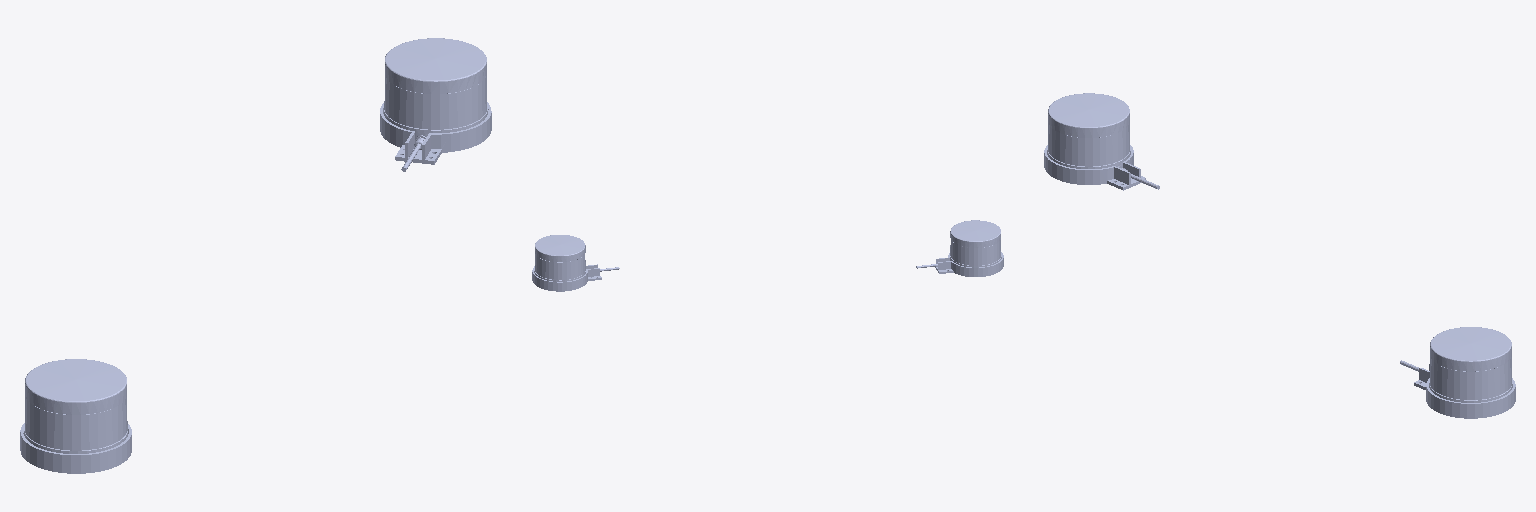
The robot description file, URDF, robot "dualarm_mobile_description":
<robot
  name="dualarm_mobile_description">
  <link
    name="base_link">
    <inertial>
      <origin
        xyz="0.000864338577017398 0.00299918257303577 0.199062022291928"
        rpy="0 0 0" />
      <mass
        value="46.767117709479" />
      <inertia
        ixx="2.14741513023637"
        ixy="0.00641922084382352"
        ixz="-0.00464682081955339"
        iyy="2.83336367327626"
        iyz="0.0187375345667571"
        izz="2.58531669412511" />
    </inertial>
    <visual>
      <origin
        xyz="0 0 0"
        rpy="0 0 0" />
      <geometry>
        <mesh
          filename="package://dualarm_mobile_description/meshes/base_link.STL" />
      </geometry>
      <material
        name="">
        <color
          rgba="0.898039215686275 0.917647058823529 0.929411764705882 1" />
      </material>
    </visual>
    <collision>
      <origin
        xyz="0 0 0"
        rpy="0 0 0" />
      <geometry>
        <mesh
          filename="package://dualarm_mobile_description/meshes/base_link.STL" />
      </geometry>
    </collision>
  </link>
  <link
    name="velodyne_front_link">
    <inertial>
      <origin
        xyz="0.00088054073719368 0.0325499630756221 -2.34093804751812E-06"
        rpy="0 0 0" />
      <mass
        value="0.644876373475702" />
      <inertia
        ixx="0.000750999634930059"
        ixy="1.67722906780247E-05"
        ixz="-1.44821058273227E-09"
        iyy="0.000893832150059014"
        iyz="-4.49975942642844E-08"
        izz="0.000791663220961329" />
    </inertial>
    <visual>
      <origin
        xyz="0 0 0"
        rpy="0 0 0" />
      <geometry>
        <mesh
          filename="package://dualarm_mobile_description/meshes/velodyne_front_link.STL" />
      </geometry>
      <material
        name="">
        <color
          rgba="0.792156862745098 0.819607843137255 0.933333333333333 1" />
      </material>
    </visual>
    <collision>
      <origin
        xyz="0 0 0"
        rpy="0 0 0" />
      <geometry>
        <mesh
          filename="package://dualarm_mobile_description/meshes/velodyne_front_link.STL" />
      </geometry>
    </collision>
  </link>
  <joint
    name="velodyne_front_joint"
    type="fixed">
    <origin
      xyz="0.339947996689396 0.23499999999999 0.268200000000092"
      rpy="1.57079632679488 -1.7910313048242E-14 -2.3561944902" />
    <parent
      link="base_link" />
    <child
      link="velodyne_front_link" />
    <axis
      xyz="0 0 0" />
  </joint>
  <link
    name="velodyne_rear_link">
    <inertial>
      <origin
        xyz="-0.000880540737191904 -2.34093804729607E-06 -0.00525003692437787"
        rpy="0 0 0" />
      <mass
        value="0.644876373475702" />
      <inertia
        ixx="0.000750999634930057"
        ixy="1.44821058254254E-09"
        ixz="-1.67722906780169E-05"
        iyy="0.000791663220961329"
        iyz="-4.49975942634836E-08"
        izz="0.000893832150059016" />
    </inertial>
    <visual>
      <origin
        xyz="0 0 0"
        rpy="0 0 0" />
      <geometry>
        <mesh
          filename="package://dualarm_mobile_description/meshes/velodyne_rear_link.STL" />
      </geometry>
      <material
        name="">
        <color
          rgba="0.792156862745098 0.819607843137255 0.933333333333333 1" />
      </material>
    </visual>
    <collision>
      <origin
        xyz="0 0 0"
        rpy="0 0 0" />
      <geometry>
        <mesh
          filename="package://dualarm_mobile_description/meshes/velodyne_rear_link.STL" />
      </geometry>
    </collision>
  </link>
  <joint
    name="velodyne_rear_joint"
    type="fixed">
    <origin
      xyz="-0.340052003310609 -0.235000000000005 0.306000000000064"
      rpy="-2.75620535564625E-14 4.02872023273894E-14 -2.35619449019235" />
    <parent
      link="base_link" />
    <child
      link="velodyne_rear_link" />
    <axis
      xyz="0 0 0" />
  </joint>
</robot>

--- What the picture shows (computed from the rendered views, not written in the file) ---
The picture shows the robot from 3 angles, left to right: view 1: azimuth 30°, elevation 25°; view 2: azimuth 150°, elevation 25°; view 3: azimuth 270°, elevation 25°; orthographic projection.
Model dualarm_mobile_description with 3 links and 2 joints (2 fixed), rooted at base_link, posed all joints at 0.
Links seen in each view (by area): view 1: velodyne_front_link, velodyne_rear_link; view 2: velodyne_rear_link, velodyne_front_link; view 3: velodyne_rear_link, velodyne_front_link.
Link boxes in pixels (bbox=[...]): velodyne_front_link: bbox=[380, 38, 491, 171]; velodyne_rear_link: bbox=[20, 359, 131, 473]; velodyne_rear_link: bbox=[916, 220, 1003, 276]; velodyne_front_link: bbox=[532, 235, 619, 291]; velodyne_rear_link: bbox=[1044, 93, 1159, 190]; velodyne_front_link: bbox=[1400, 327, 1515, 418].
Size in the robot's own frame: 0.7896 by 0.5796 by 0.0767 metres.
2 mesh visuals loaded from 3 distinct referenced files (2 binary STL); not drawn: 1 (reference not matched to a file when rendering).